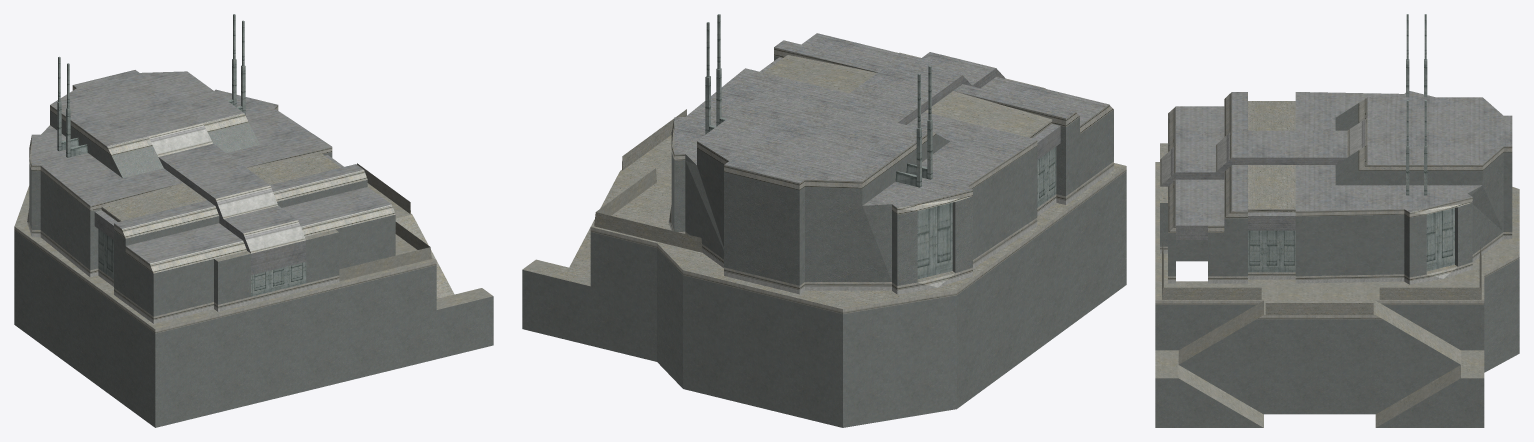
File: ply_corl_hospital_s01_r0_exterior_mesh_l1.fbx
3 views of the same model, side by side, from view 1: azimuth 30°, elevation 25°; view 2: azimuth 150°, elevation 25°; view 3: azimuth 270°, elevation 25° (orthographic). The views are drawn at different scales.
Visible parts, largest first — view 1: mesh_node; view 2: mesh_node; view 3: mesh_node.
Part boxes in pixels (box(x1,y1,x2,y2)): mesh_node: box(14, 14, 493, 427); mesh_node: box(522, 14, 1126, 427); mesh_node: box(1155, 14, 1519, 427).
Bounding box in the file's own units: 24.65 × 18.35 × 22.78.
